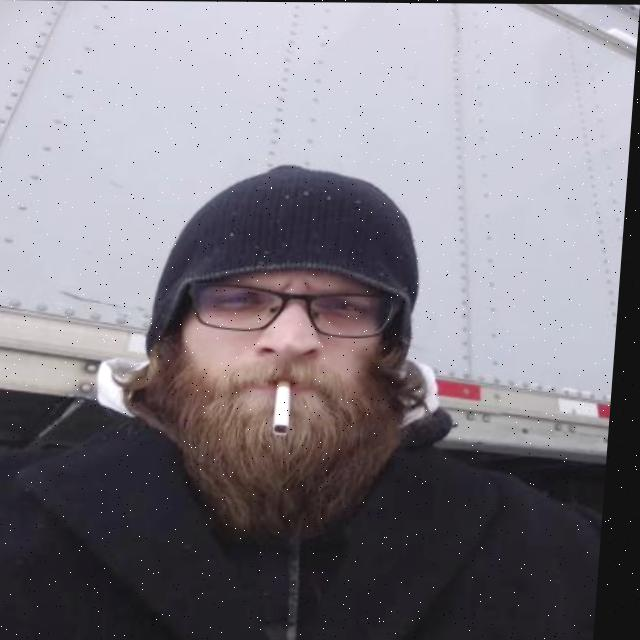cigarette: (279, 378, 298, 435)
